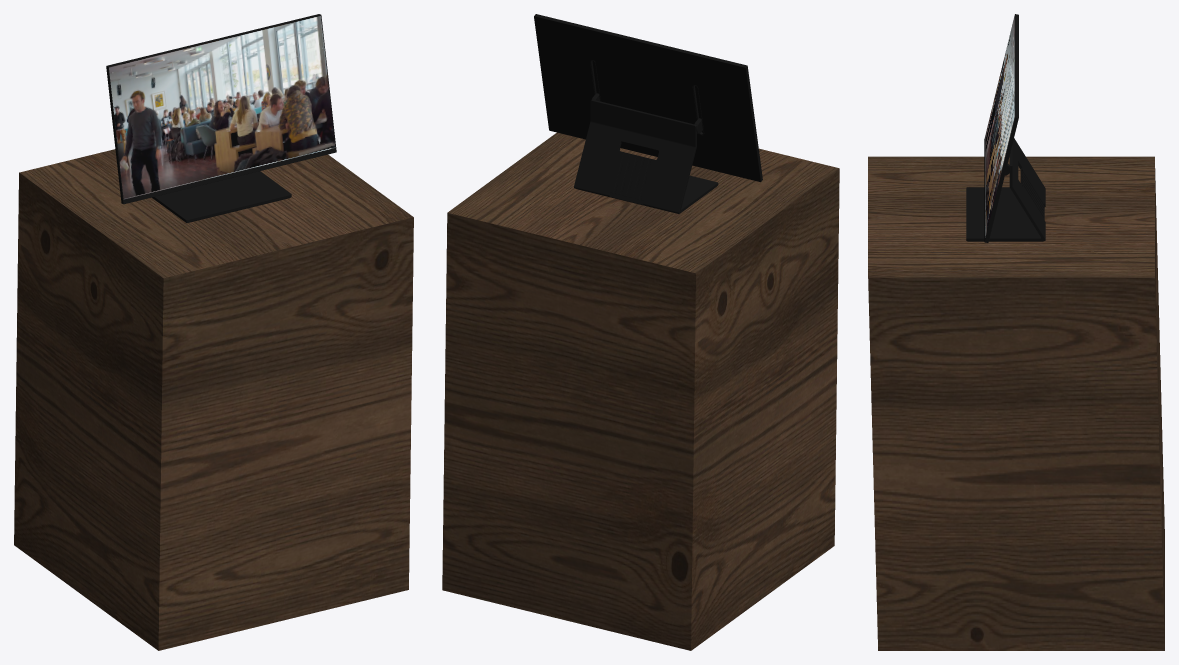
File: StudentAs.glb
3 renders of one model, left to right at view 1: azimuth 30°, elevation 25°; view 2: azimuth 150°, elevation 25°; view 3: azimuth 270°, elevation 25°, orthographic.
Visible parts, largest first — view 1: Screen; view 2: Screen; view 3: Screen.
Boxes of the visible parts, x1,y1,x2,y2 form: Screen: [14, 14, 413, 650]; Screen: [442, 14, 839, 650]; Screen: [868, 14, 1164, 650].
Size of the model in its own units: 0.7039 by 1.42 by 0.7285.
Materials: 6 (5 with a texture image).
